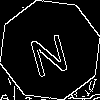N: (25, 25, 71, 78)
